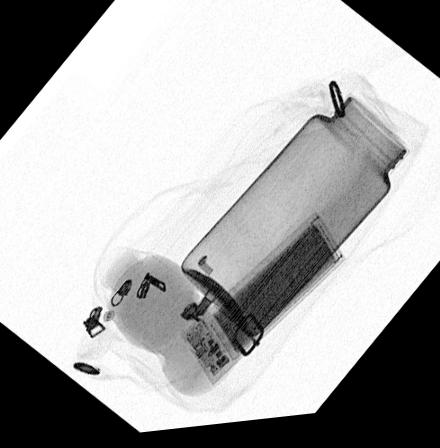Powerbank: (180, 218, 348, 390)
